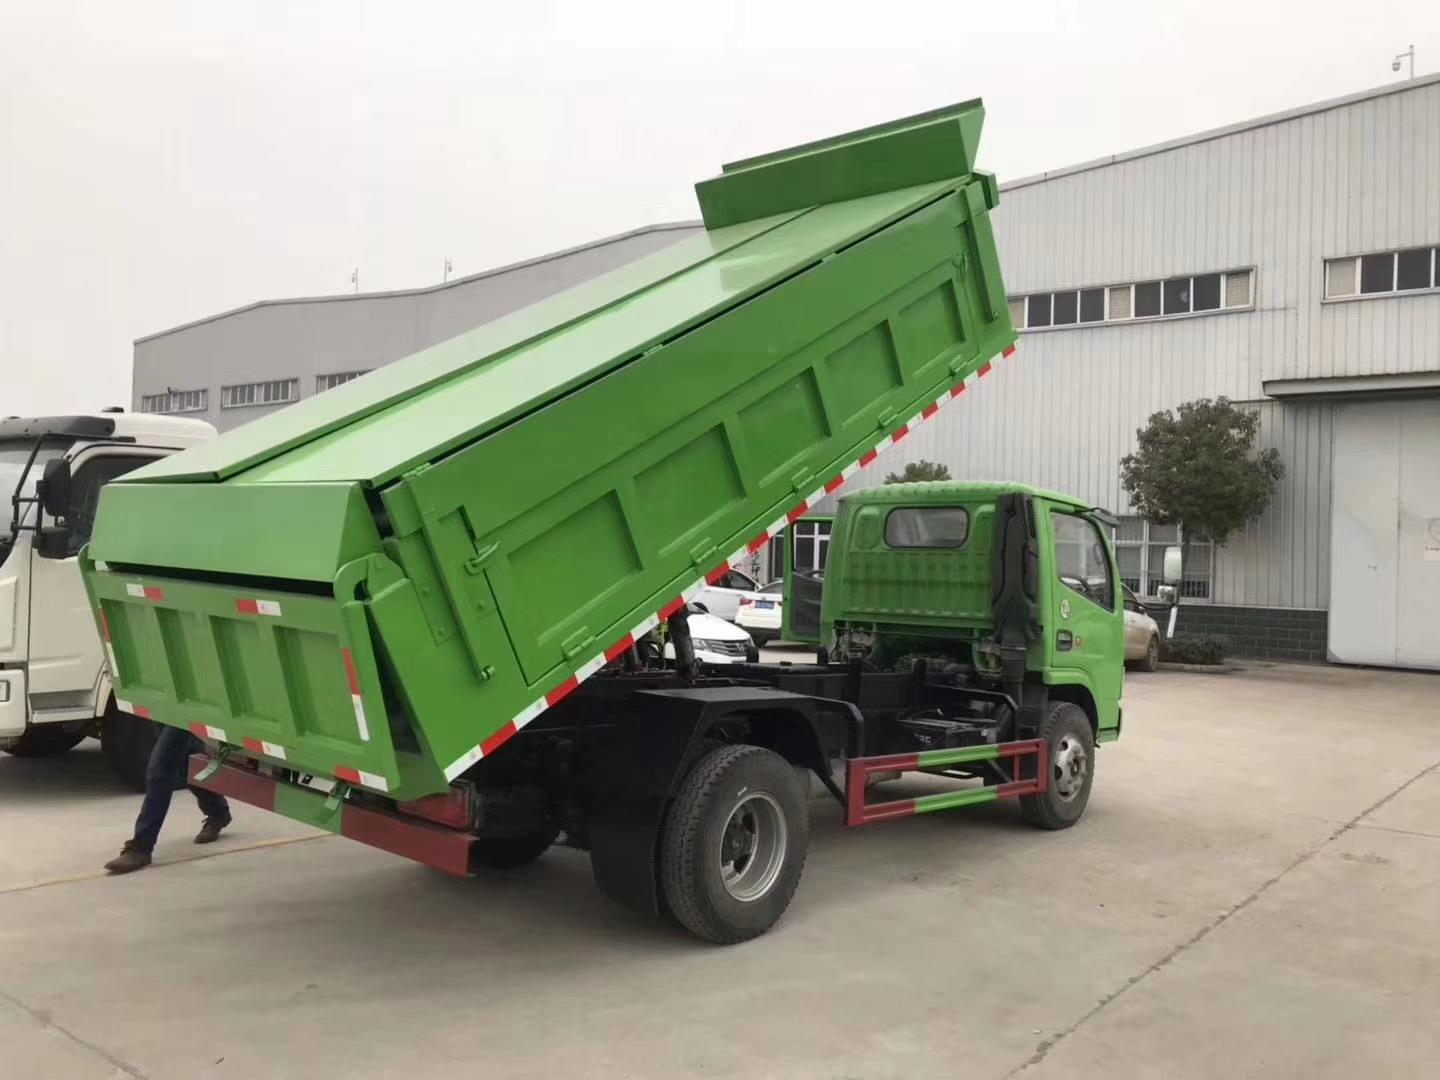truck: (81, 68, 1192, 951)
